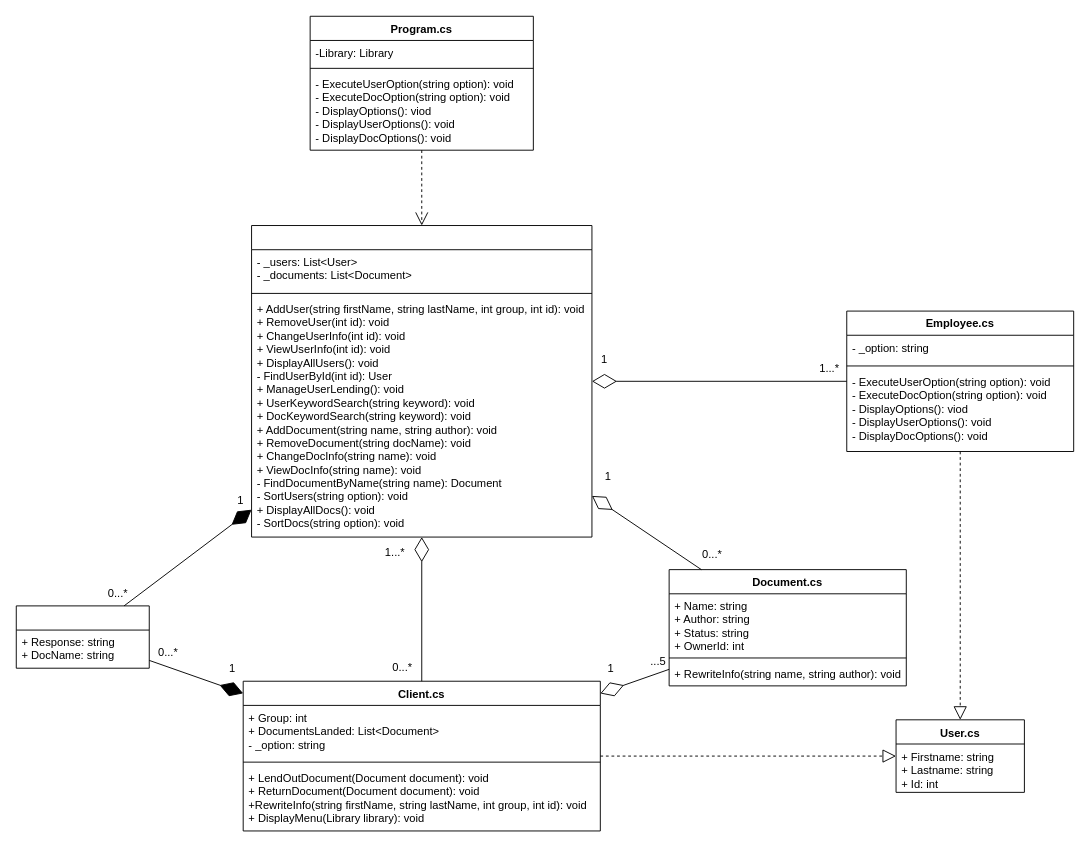
The diagram is 1090 pixels wide and 850 high, and some of its shapes have lost their labels. Each missing label, with the box of its shape:
Library.cs: (251, 225, 592, 537)
Request.cs: (15, 605, 149, 668)
